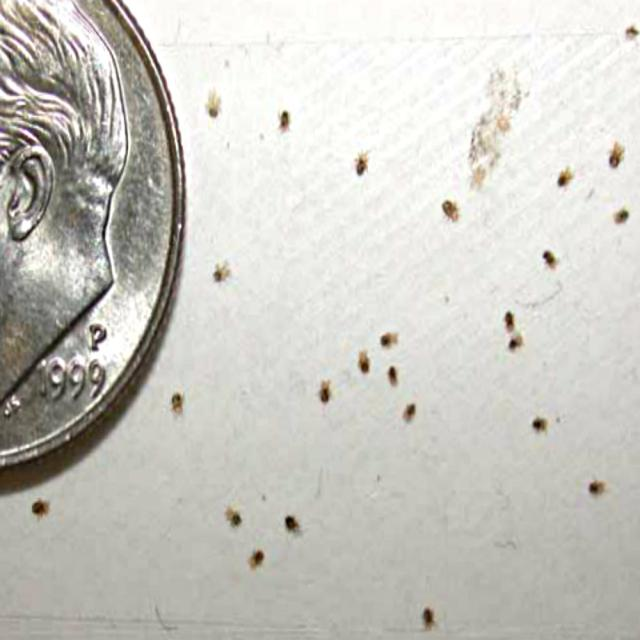Mites: (206, 253, 238, 294), (414, 599, 446, 639), (536, 246, 567, 278), (438, 200, 471, 230), (602, 138, 628, 175), (606, 199, 632, 236), (349, 146, 377, 180), (202, 85, 225, 124), (166, 385, 186, 426), (220, 502, 245, 534), (272, 102, 294, 138), (552, 163, 576, 195), (282, 508, 306, 538), (317, 378, 336, 408), (398, 401, 418, 429), (27, 498, 50, 522), (584, 478, 608, 500), (500, 308, 518, 335), (249, 546, 268, 571), (379, 330, 400, 351), (528, 414, 550, 434), (357, 351, 371, 380), (621, 22, 640, 43), (385, 364, 401, 388), (510, 333, 524, 354)
